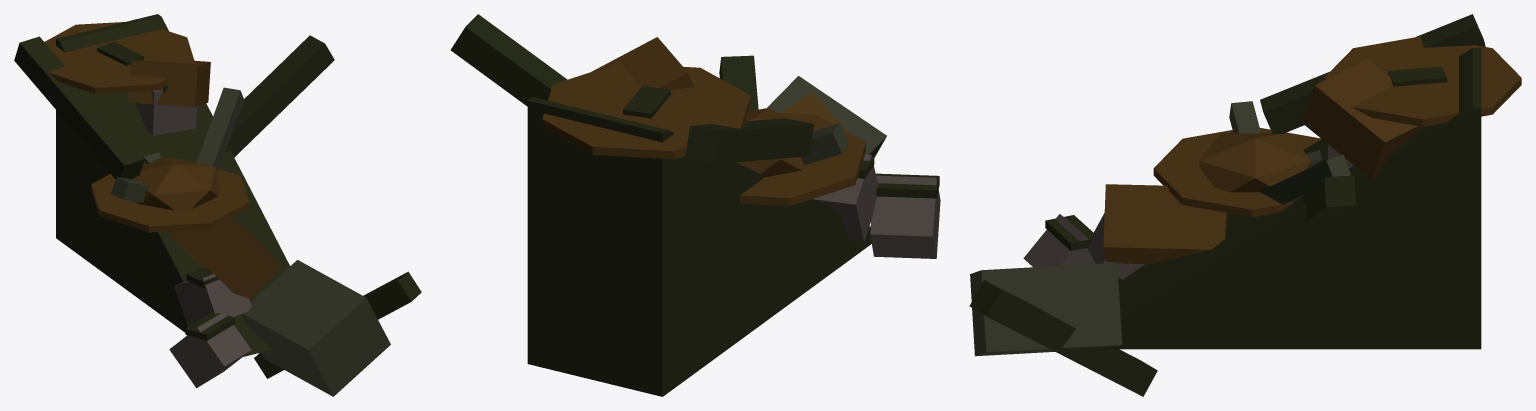
The model's file is SM_PilaZombi_Altura1_s2_LOD0.fbx.
3 views of the same model, side by side, from view 1: azimuth 30°, elevation 25°; view 2: azimuth 150°, elevation 25°; view 3: azimuth 270°, elevation 25° (orthographic). The views are drawn at different scales.
Parts seen in each view (by area): view 1: SM_pila_zombis_v10_LOD0; view 2: SM_pila_zombis_v10_LOD0; view 3: SM_pila_zombis_v10_LOD0.
Part boxes in pixels (x1=…): SM_pila_zombis_v10_LOD0: x1=14, y1=14, x2=421, y2=396; SM_pila_zombis_v10_LOD0: x1=450, y1=14, x2=940, y2=396; SM_pila_zombis_v10_LOD0: x1=969, y1=14, x2=1521, y2=396.
Size of the model in its own units: 1.35 by 1.25 by 2.01.
